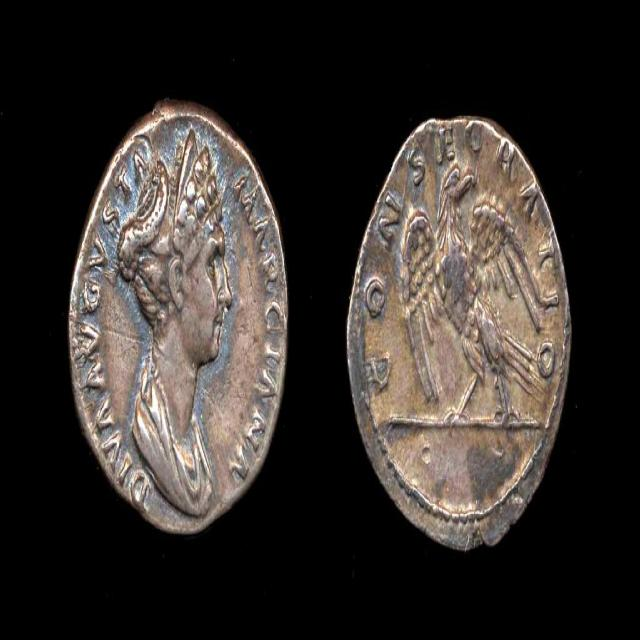Coin: (344, 103, 579, 552), (66, 104, 292, 536)
